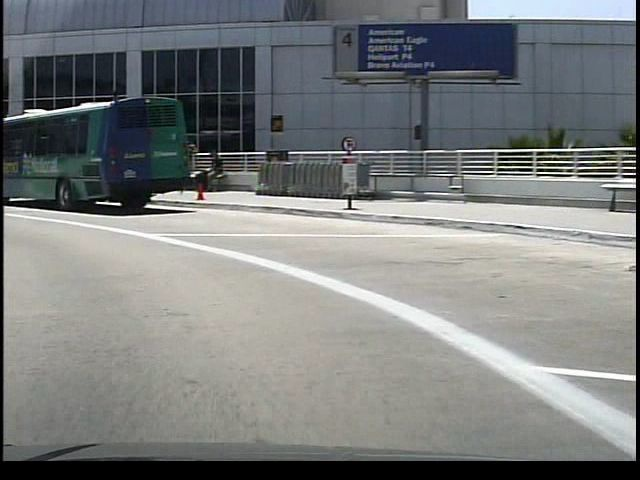person: (197, 145, 224, 193)
